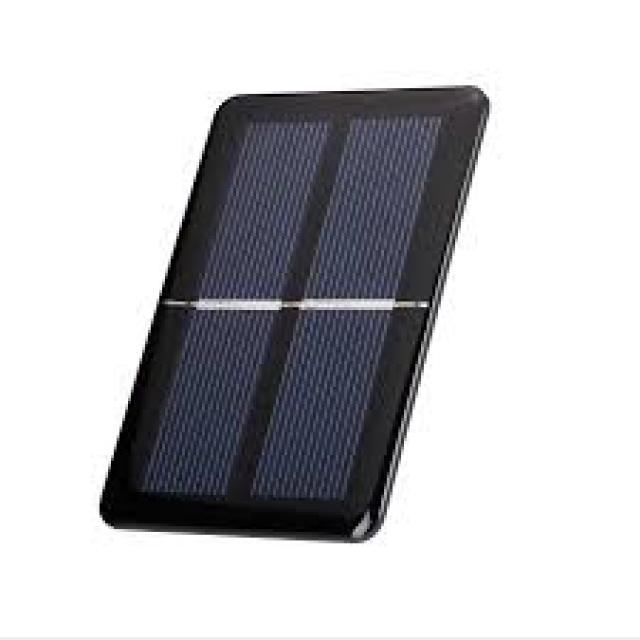no faulty: (99, 93, 489, 539)
